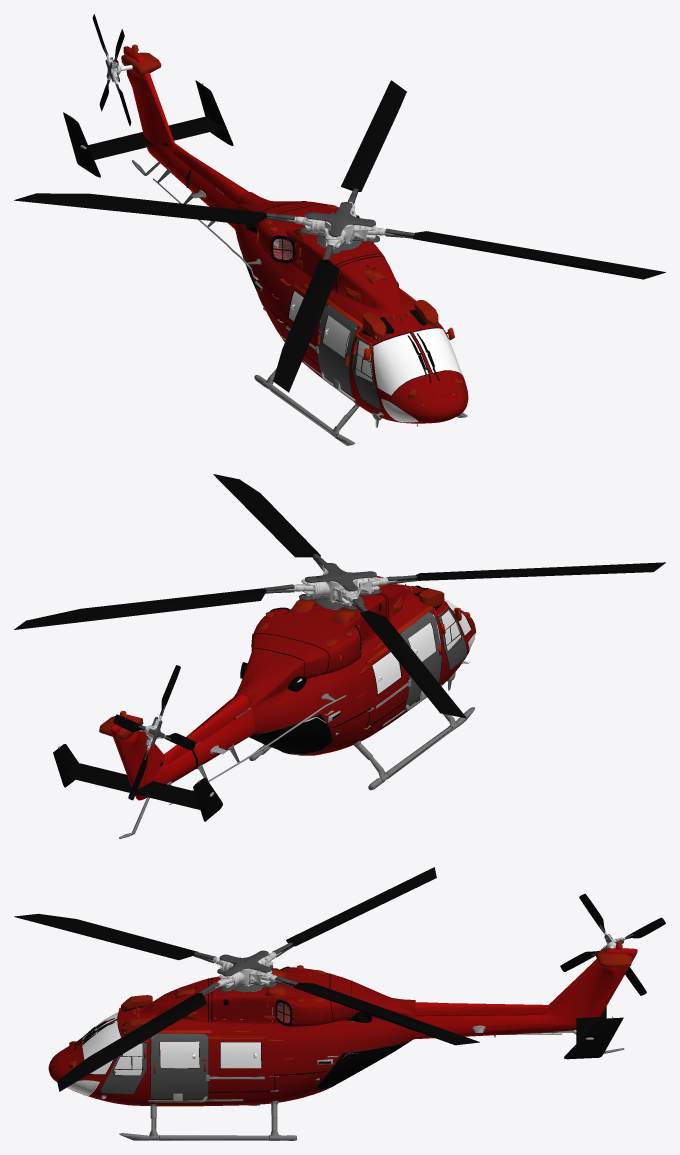
Rendered from helikopter.glb.
3 views of the same model, one above another, from view 1: azimuth 30°, elevation 25°; view 2: azimuth 150°, elevation 25°; view 3: azimuth 270°, elevation 25° (orthographic). The views are drawn at different scales.
Parts seen in each view (by area): view 1: helicopter_112, heli_base.002_110, helicopter.004_116, blade.001_51, blade.003_53, blade.002_52, blade_42, Plane_140, Plane.001_141, helicopter.008_120, heli_base.003_111, Cylinder_98 (+4 smaller); view 2: helicopter_112, heli_base.002_110, blade_42, blade.001_51, blade.002_52, blade.003_53, Plane_140, helicopter.007_119, heli_base.003_111, Cylinder_98, Plane.001_141, helicopter.008_120 (+4 smaller); view 3: helicopter_112, heli_base.002_110, helicopter.008_120, blade.002_52, blade.003_53, blade_42, blade.001_51, heli_base.003_111, Cylinder_98, helicopter.007_119, Plane.001_141, helicopter.011_123 (+11 smaller).
Boxes of the visible parts, box(x1,y1,x2,y2) form: helicopter_112: box(234, 192, 468, 423); heli_base.002_110: box(123, 46, 238, 229); helicopter.004_116: box(372, 328, 462, 395); blade.001_51: box(14, 193, 276, 225); blade.003_53: box(272, 259, 339, 392); blade.002_52: box(394, 231, 665, 279); blade_42: box(341, 80, 406, 196); Plane_140: box(88, 116, 224, 159); Plane.001_141: box(63, 80, 233, 177); helicopter.008_120: box(317, 305, 357, 395); heli_base.003_111: box(172, 143, 249, 204); Cylinder_98: box(254, 368, 467, 445); helicopter_112: box(228, 584, 475, 755); heli_base.002_110: box(110, 708, 255, 800); blade_42: box(14, 588, 275, 629); blade.001_51: box(356, 605, 466, 718); blade.002_52: box(213, 474, 320, 559); blade.003_53: box(397, 562, 665, 580); Plane_140: box(62, 763, 200, 809); helicopter.007_119: box(234, 714, 331, 754); heli_base.003_111: box(164, 693, 250, 764); Cylinder_98: box(249, 707, 475, 790); Plane.001_141: box(53, 744, 222, 821); helicopter.008_120: box(400, 612, 441, 708); helicopter_112: box(48, 967, 415, 1106); heli_base.002_110: box(414, 948, 637, 1039); helicopter.008_120: box(151, 1033, 208, 1099); blade.002_52: box(57, 991, 208, 1091); blade.003_53: box(14, 913, 200, 960); blade_42: box(282, 982, 479, 1045); blade.001_51: box(282, 867, 436, 951); heli_base.003_111: box(415, 1002, 548, 1015); Cylinder_98: box(119, 1100, 296, 1140); helicopter.007_119: box(318, 1040, 411, 1090); Plane.001_141: box(564, 1017, 623, 1059); helicopter.011_123: box(220, 1042, 261, 1068).
Bounding box in the file's own units: 11.19 × 5.5 × 15.6.
Materials: 23 (3 with a texture image).
